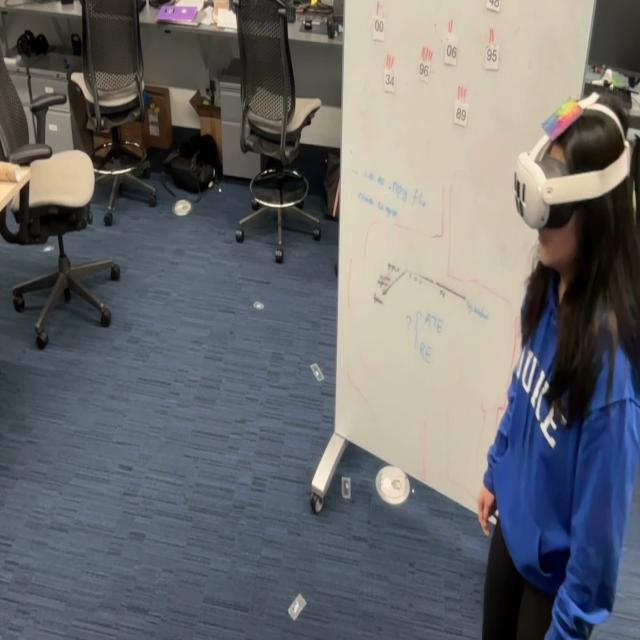Headset: (513, 92, 631, 230)
Marker: (542, 96, 584, 145)
